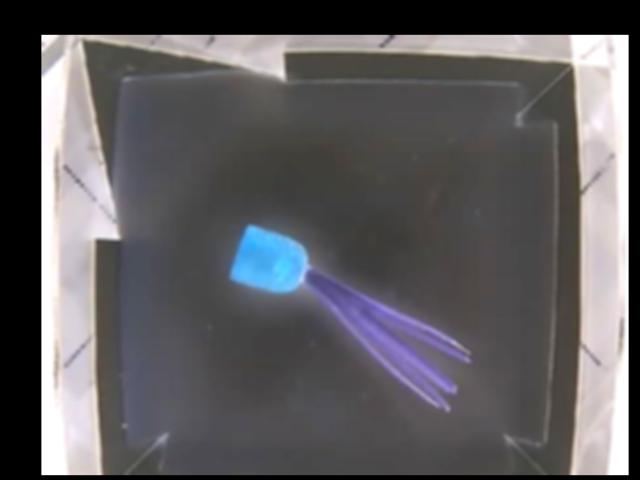Carrot: (232, 224, 355, 319)
